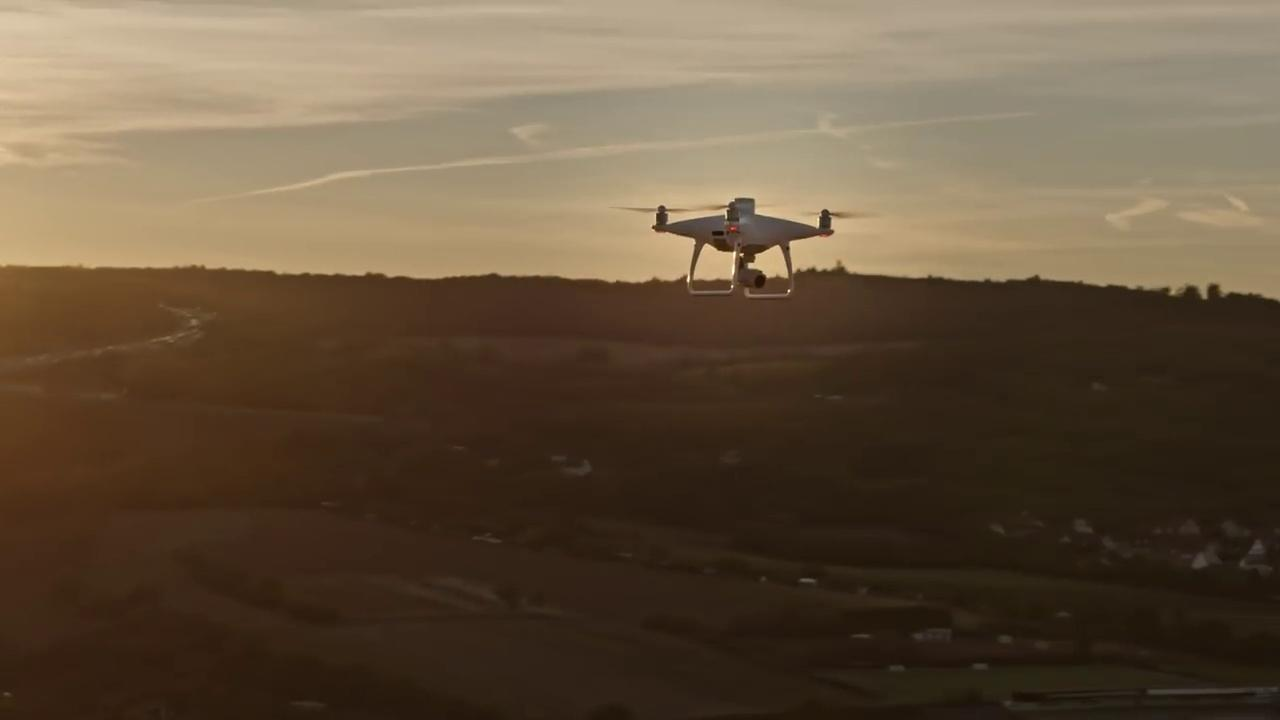drone: (602, 196, 885, 299)
